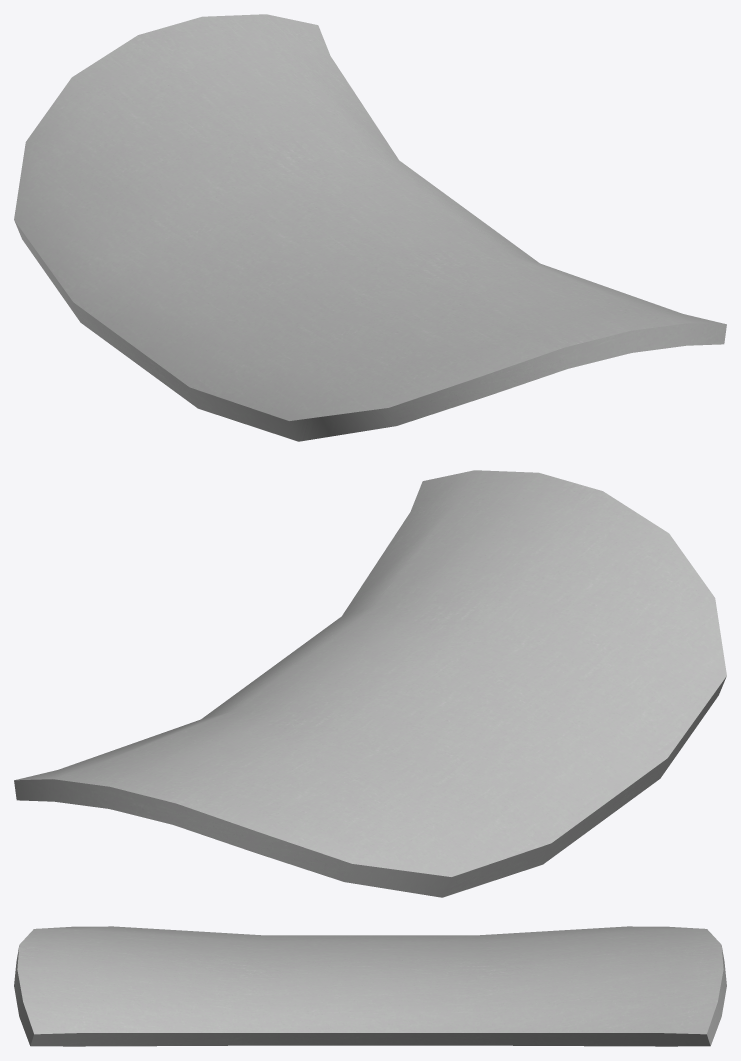
Rendered from p6_hijacked_spoiler_lod1.glb.
The picture shows the model from 3 angles, top to bottom: view 1: azimuth 30°, elevation 25°; view 2: azimuth 150°, elevation 25°; view 3: azimuth 270°, elevation 25°; orthographic projection. The views are drawn at different scales.
Visible parts, largest first — view 1: surf0; view 2: surf0; view 3: surf0.
Boxes of the visible parts, box(x1,y1,x2,y2) form: surf0: box(14, 14, 726, 441); surf0: box(14, 470, 726, 897); surf0: box(14, 926, 726, 1046).
Bounding box in the file's own units: 450 × 137 × 863.
